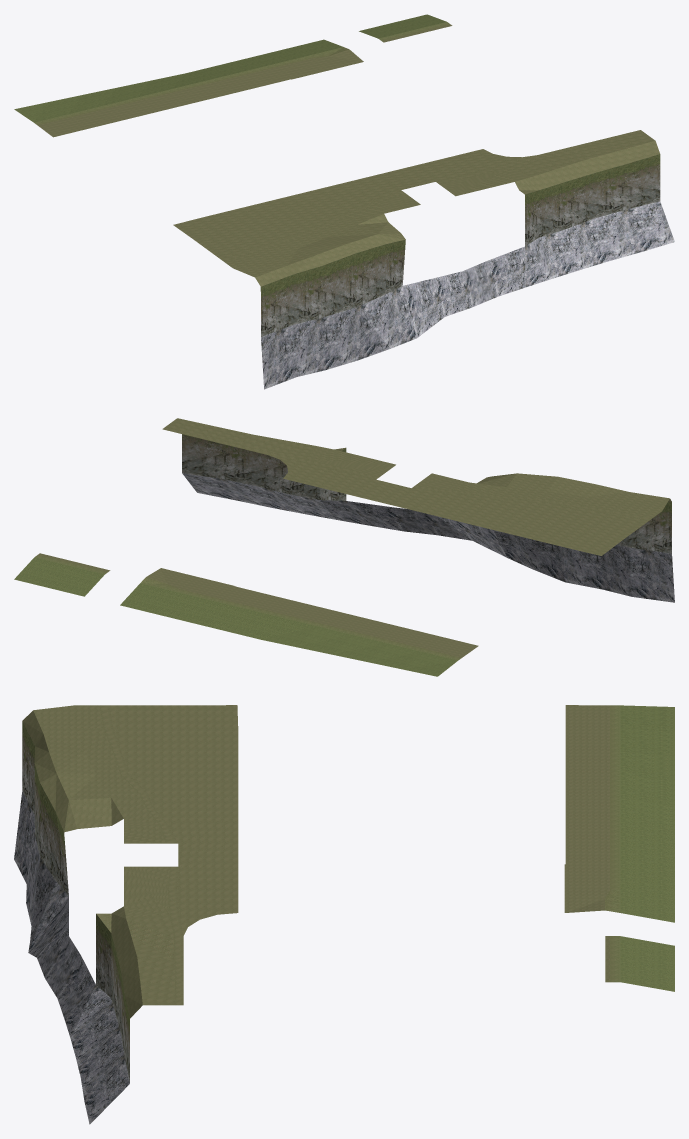
Rendered from vegassedge20.obj.
3 views of the same model, one above another, from view 1: azimuth 30°, elevation 25°; view 2: azimuth 150°, elevation 25°; view 3: azimuth 270°, elevation 25° (orthographic). The views are drawn at different scales.
Parts seen in each view (by area): view 1: vegasSedge20; view 2: vegasSedge20; view 3: vegasSedge20.
Part boxes in pixels (box(x1,y1,x2,y2)): vegasSedge20: box(14, 14, 674, 389); vegasSedge20: box(14, 418, 674, 676); vegasSedge20: box(14, 705, 674, 1124).
Size of the model in its own units: 260 by 61.21 by 242.
7 materials, 7 textured.
